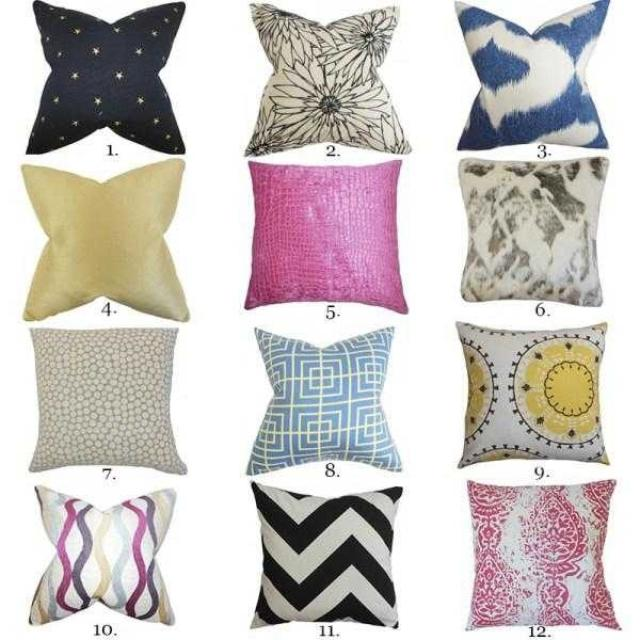pillow: (238, 0, 417, 162), (20, 156, 190, 322), (22, 2, 200, 158), (244, 158, 408, 314), (452, 0, 612, 152), (464, 478, 620, 632), (244, 324, 402, 476), (26, 327, 188, 475), (457, 155, 609, 307), (248, 480, 402, 630), (454, 320, 610, 468), (27, 484, 176, 626)
